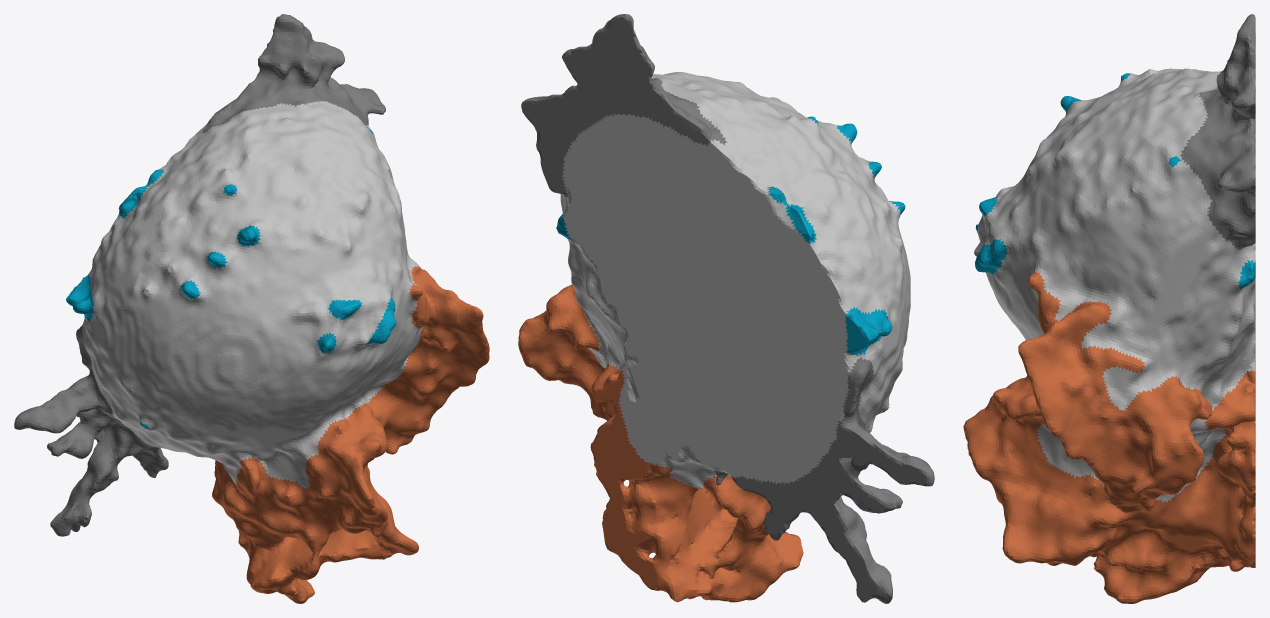
3 renders of one model, left to right at view 1: azimuth 30°, elevation 25°; view 2: azimuth 150°, elevation 25°; view 3: azimuth 270°, elevation 25°, orthographic. The views are drawn at different scales.
Bounding box in the file's own units: 126 × 164 × 71.95.
